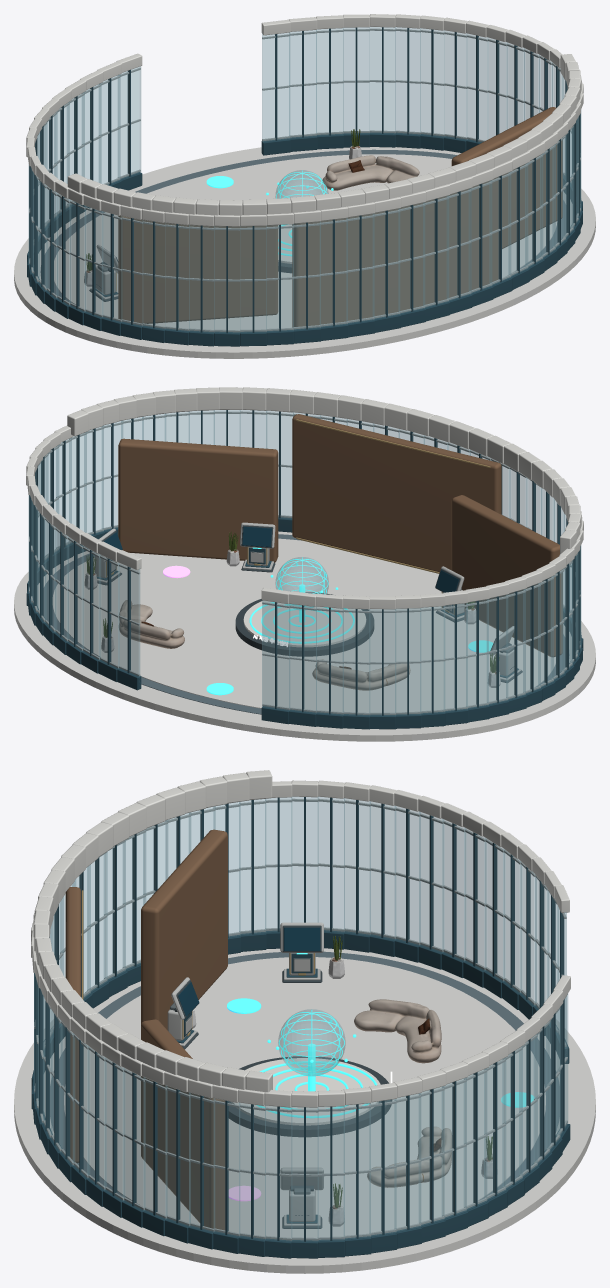
The model's file is government-central-plaza-ChHp7bRH.glb.
The picture shows the model from 3 angles, top to bottom: view 1: azimuth 30°, elevation 25°; view 2: azimuth 150°, elevation 25°; view 3: azimuth 270°, elevation 25°; orthographic projection. The views are drawn at different scales.
Parts seen in each view (by area): view 1: WebUI_Surface_Center, WebUI_Surface_Left, Ground_GovernmentCentralPlaza, Main_Floor, WebUI_Surface_Right, GlassFacade_51, GlassFacade_18, Floor_Inlay, GlassFacade_22, GlassFacade_53, GlassFacade_20, GlassFacade_21 (+44 smaller); view 2: Main_Floor, WebUI_Surface_Center, WebUI_Surface_Right, Ground_GovernmentCentralPlaza, WebUI_Surface_Left, AI_Platform_Stone, GlassFacade_45, GlassFacade_44, GlassFacade_43, GlassFacade_42, GlassFacade_41, GlassFacade_40 (+57 smaller); view 3: Main_Floor, Ground_GovernmentCentralPlaza, WebUI_Surface_Left, WebUI_Surface_Right, Floor_Inlay, AI_Platform_Stone, AI_Globe, GlassFacade_00, GlassFacade_61, tripo_node_d2b5f472-a753-44d7-9b9f-42e02b7542d3.002, GlassFacade_01, GlassFacade_63 (+71 smaller).
Boxes of the visible parts, box(x1,y1,x2,y2) form: WebUI_Surface_Center: box(292, 177, 498, 327); WebUI_Surface_Left: box(118, 215, 278, 323); Ground_GovernmentCentralPlaza: box(14, 147, 595, 358); Main_Floor: box(54, 154, 557, 330); WebUI_Surface_Right: box(451, 107, 562, 248); GlassFacade_51: box(262, 33, 289, 141); GlassFacade_18: box(346, 214, 374, 323); Floor_Inlay: box(40, 149, 565, 302); GlassFacade_22: box(240, 226, 266, 332); GlassFacade_53: box(316, 28, 343, 135); GlassFacade_20: box(293, 221, 320, 329); GlassFacade_21: box(266, 224, 293, 331); Main_Floor: box(52, 538, 555, 712); WebUI_Surface_Center: box(292, 414, 501, 572); WebUI_Surface_Right: box(118, 438, 278, 562); Ground_GovernmentCentralPlaza: box(14, 531, 595, 741); WebUI_Surface_Left: box(451, 495, 562, 656); AI_Platform_Stone: box(243, 600, 366, 647); GlassFacade_45: box(262, 600, 289, 710); GlassFacade_44: box(289, 604, 316, 713); GlassFacade_43: box(316, 607, 343, 714); GlassFacade_42: box(343, 608, 369, 715); GlassFacade_41: box(369, 609, 395, 715); GlassFacade_40: box(395, 608, 420, 714); Main_Floor: box(64, 957, 545, 1237); Ground_GovernmentCentralPlaza: box(14, 948, 595, 1273); WebUI_Surface_Left: box(141, 829, 227, 1029); WebUI_Surface_Right: box(141, 1019, 225, 1230); Floor_Inlay: box(50, 951, 559, 1200); AI_Platform_Stone: box(231, 1058, 380, 1125); AI_Globe: box(278, 1009, 345, 1075); GlassFacade_00: box(291, 1107, 318, 1241); GlassFacade_61: box(369, 1099, 396, 1236); tripo_node_d2b5f472-a753-44d7-9b9f-42e02b7542d3.002: box(354, 999, 441, 1063); GlassFacade_01: box(265, 1106, 291, 1241); GlassFacade_63: box(318, 1106, 344, 1240).
Size of the model in its own units: 28 by 7.4 by 21.
20 materials, 3 textured.
